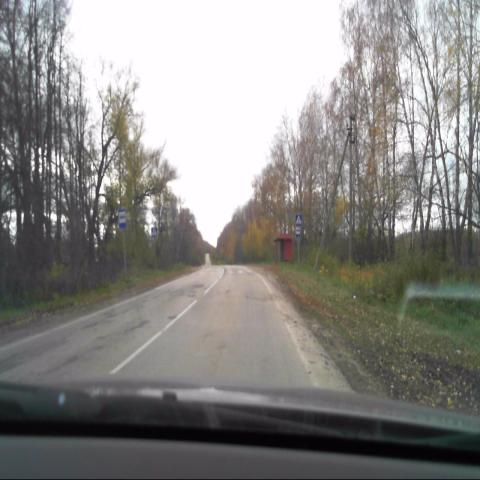5_16: (119, 209, 127, 230)
5_19_1: (151, 226, 158, 238), (296, 214, 301, 225)
